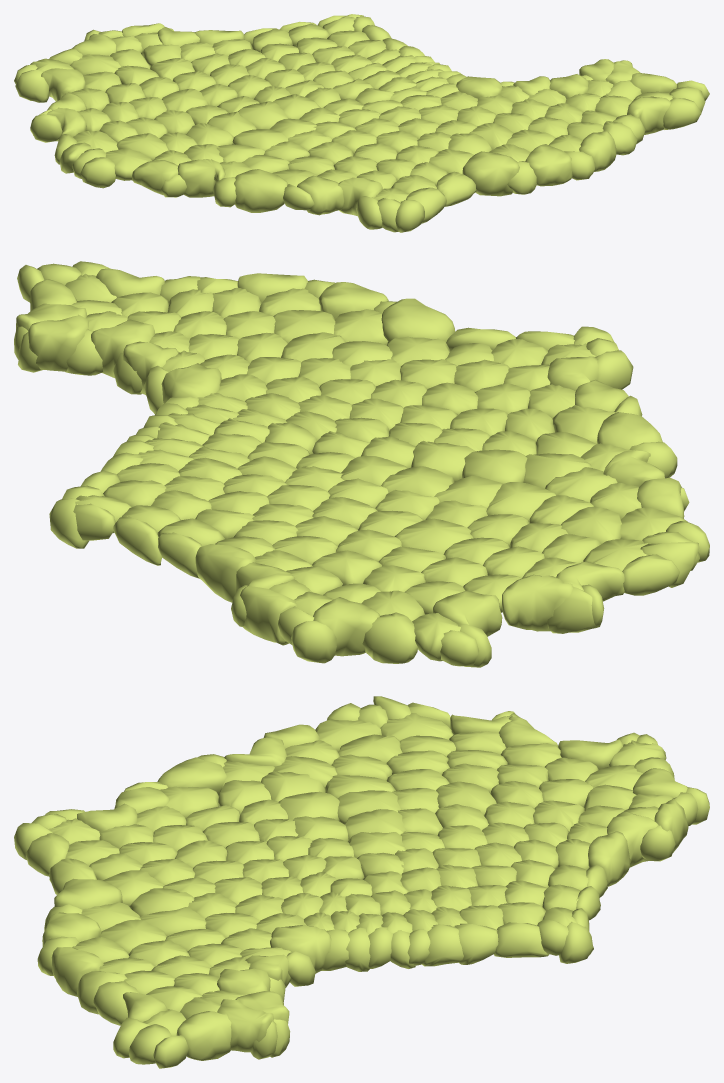
The model's file is Islands5.003_fog.fbx.
The picture shows the model from 3 angles, top to bottom: view 1: azimuth 30°, elevation 25°; view 2: azimuth 150°, elevation 25°; view 3: azimuth 270°, elevation 25°; orthographic projection. The views are drawn at different scales.
Visible parts, largest first — view 1: Island5.003_fog_cell.182, Island5.003_fog_cell.181, Island5.003_fog_cell.038, Island5.003_fog_cell.099, Island5.003_fog_cell.177, Island5.003_fog_cell.076, Island5.003_fog_cell.070, Island5.003_fog_cell.082, Island5.003_fog_cell.025, Island5.003_fog_cell.071, Island5.003_fog_cell.138, Island5.003_fog_cell.080 (+137 smaller); view 2: Island5.003_fog_cell.077, Island5.003_fog_cell.135, Island5.003_fog_cell.167, Island5.003_fog_cell.181, Island5.003_fog_cell.158, Island5.003_fog_cell.188, Island5.003_fog_cell.146, Island5.003_fog_cell.025, Island5.003_fog_cell.004, Island5.003_fog_cell.063, Island5.003_fog_cell.175, Island5.003_fog_cell.140 (+143 smaller); view 3: Island5.003_fog_cell.184, Island5.003_fog_cell.032, Island5.003_fog_cell.045, Island5.003_fog_cell.188, Island5.003_fog_cell.182, Island5.003_fog_cell.082, Island5.003_fog_cell.181, Island5.003_fog_cell.185, Island5.003_fog_cell.015, Island5.003_fog_cell.073, Island5.003_fog_cell.063, Island5.003_fog_cell.038 (+141 smaller).
Part boxes in pixels (x1,y1,x2,y2): Island5.003_fog_cell.182: (234,169,287,212); Island5.003_fog_cell.181: (462,151,519,196); Island5.003_fog_cell.038: (525,144,572,186); Island5.003_fog_cell.099: (177,159,225,197); Island5.003_fog_cell.177: (297,175,344,215); Island5.003_fog_cell.076: (627,96,671,134); Island5.003_fog_cell.070: (132,160,178,195); Island5.003_fog_cell.082: (579,131,616,171); Island5.003_fog_cell.025: (41,68,85,101); Island5.003_fog_cell.071: (338,177,382,216); Island5.003_fog_cell.138: (436,171,476,206); Island5.003_fog_cell.080: (238,101,287,129); Island5.003_fog_cell.077: (502,574,572,631); Island5.003_fog_cell.135: (28,314,88,371); Island5.003_fog_cell.167: (313,597,379,656); Island5.003_fog_cell.181: (381,298,455,342); Island5.003_fog_cell.158: (362,612,417,663); Island5.003_fog_cell.188: (195,544,256,602); Island5.003_fog_cell.146: (240,586,296,645); Island5.003_fog_cell.025: (432,590,502,636); Island5.003_fog_cell.004: (622,554,679,595); Island5.003_fog_cell.063: (462,449,527,483); Island5.003_fog_cell.175: (394,518,473,554); Island5.003_fog_cell.140: (91,319,154,377); Island5.003_fog_cell.184: (176,1011,231,1060); Island5.003_fog_cell.032: (217,999,273,1052); Island5.003_fog_cell.045: (270,925,331,973); Island5.003_fog_cell.188: (588,831,630,886); Island5.003_fog_cell.182: (157,757,227,795); Island5.003_fog_cell.082: (51,947,103,996); Island5.003_fog_cell.181: (54,878,122,909); Island5.003_fog_cell.185: (494,922,549,957); Island5.003_fog_cell.015: (337,790,400,824); Island5.003_fog_cell.073: (454,923,498,964); Island5.003_fog_cell.063: (278,791,339,820); Island5.003_fog_cell.038: (42,912,101,946).
Size of the model in its own units: 169 by 10.36 by 141.
